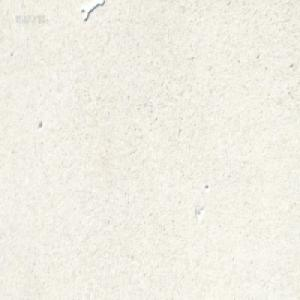Wrench: (81, 0, 104, 22)
